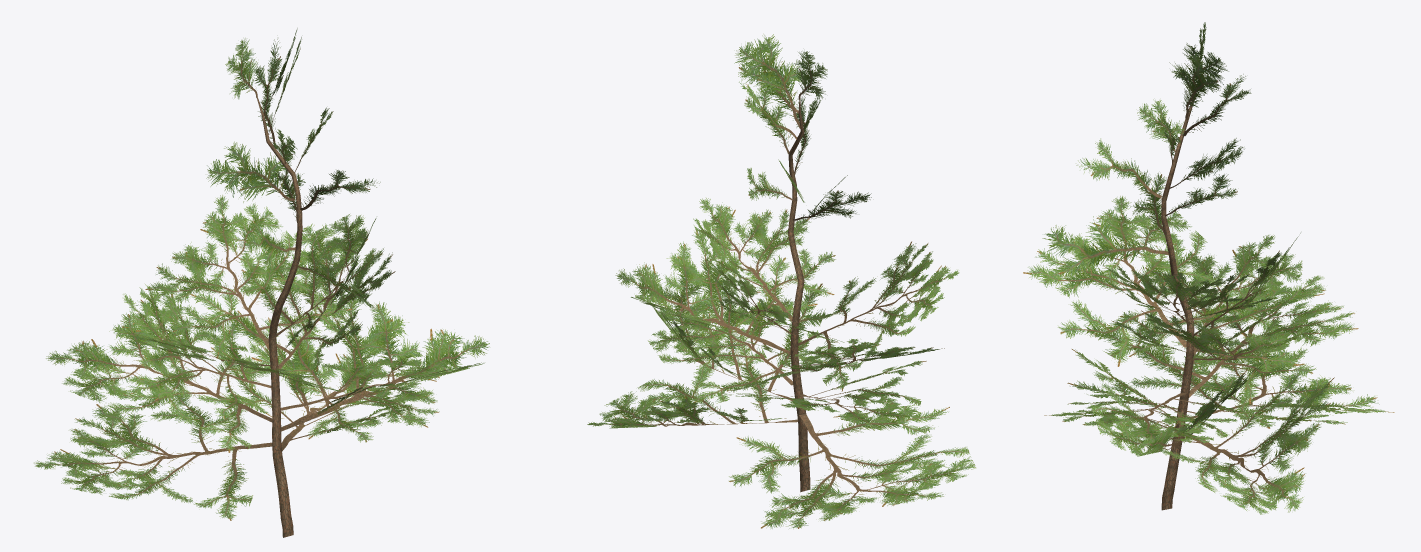
3 views of the same model, side by side, from view 1: azimuth 30°, elevation 25°; view 2: azimuth 150°, elevation 25°; view 3: azimuth 270°, elevation 25° (orthographic). The views are drawn at different scales.
Parts seen in each view (by area): view 1: Pine_sapling_1_LOD2_Clusters_Mat_0; view 2: Pine_sapling_1_LOD2_Clusters_Mat_0; view 3: Pine_sapling_1_LOD2_Clusters_Mat_0.
Boxes of the visible parts, bbox=[...] form: Pine_sapling_1_LOD2_Clusters_Mat_0: bbox=[34, 28, 489, 537]; Pine_sapling_1_LOD2_Clusters_Mat_0: bbox=[587, 34, 975, 528]; Pine_sapling_1_LOD2_Clusters_Mat_0: bbox=[1023, 22, 1394, 514].
Size of the model in its own units: 1.42 by 1.54 by 1.11.
